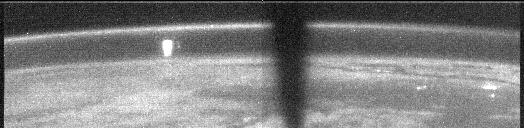positive: (160, 38, 175, 58)
